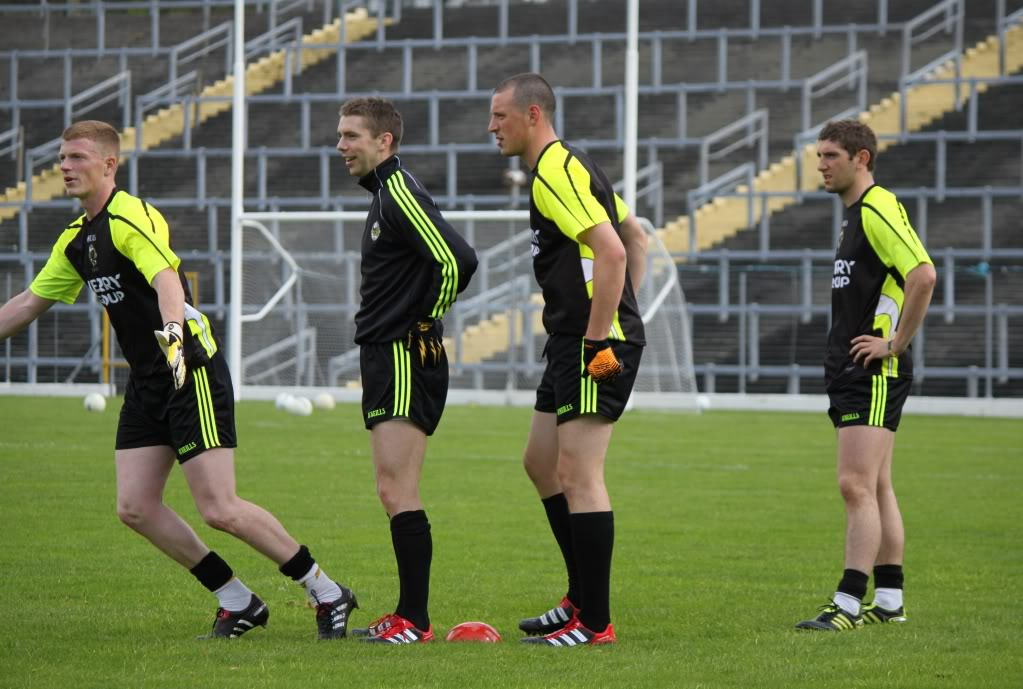player: (42, 99, 317, 608), (474, 68, 661, 639), (329, 82, 458, 650), (794, 117, 933, 611)
